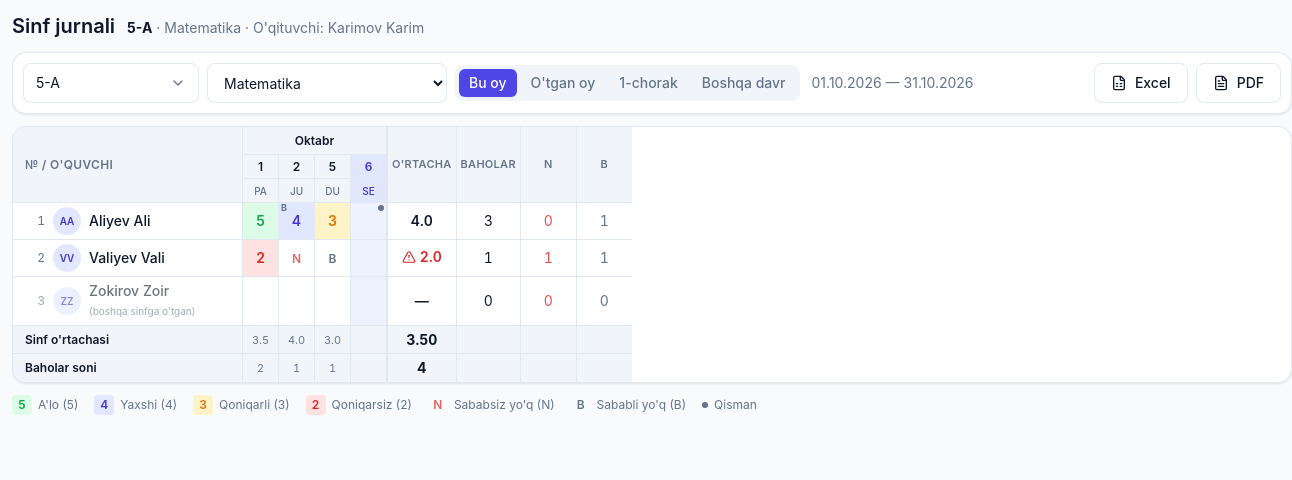
JournalView: ixcham sarlavha › sinf/fan sarlavha qatorida; sanalar yashirin, o`rniga qisqa davr yozuvi
The width and height of the screenshot is (1292, 480).
Expected: the element with test id "journal-info" shows "5-A", top-left (127, 19), bottom-right (152, 36)
Expected: the text with test id "range-text" reads "01.10.2026 — 31.10.2026", top-left (812, 74), bottom-right (974, 91)
Click the radio button labelled "Boshqa davr" at (744, 83), box top-left (692, 69), bottom-right (796, 97)
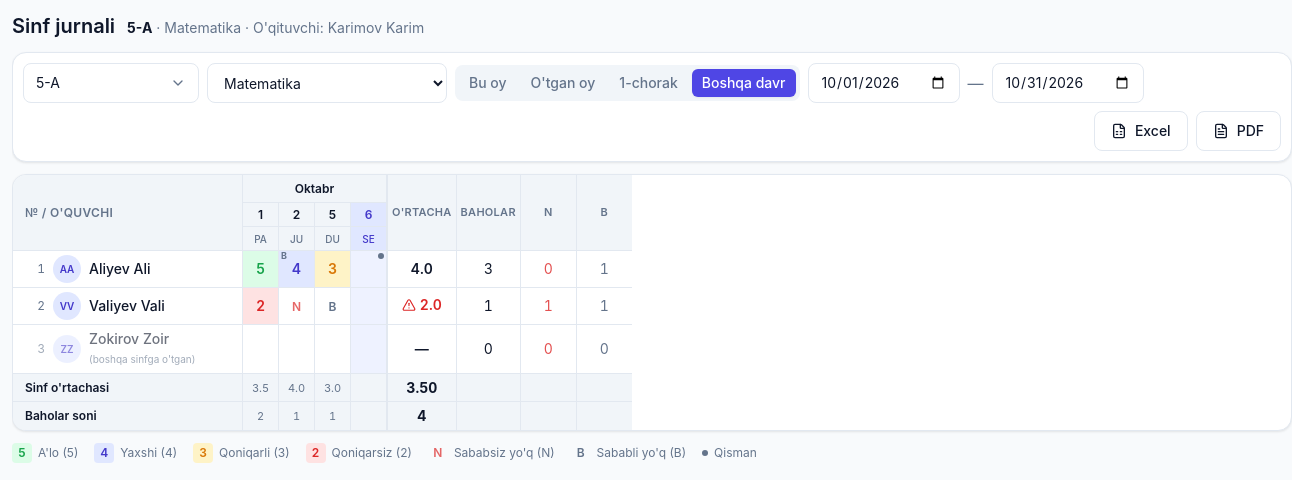
Now the date field with test id "filter-from" is shown, box top-left (808, 63), bottom-right (960, 103)
